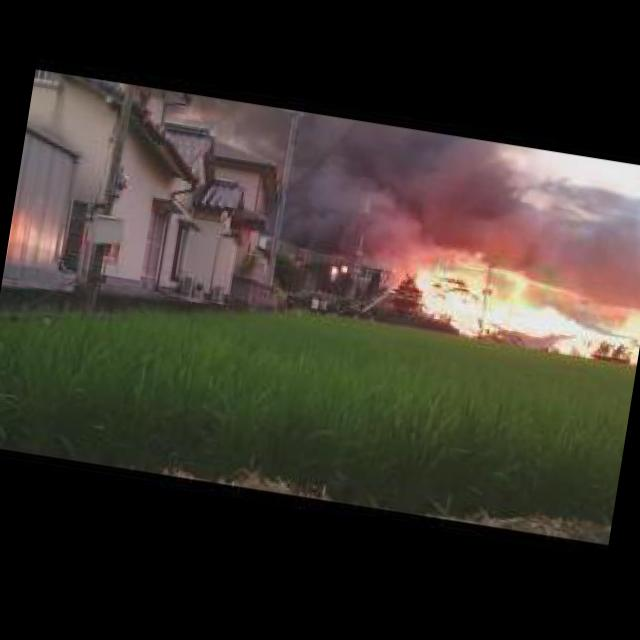fire: (400, 245, 640, 362)
smoke: (235, 106, 640, 302)
